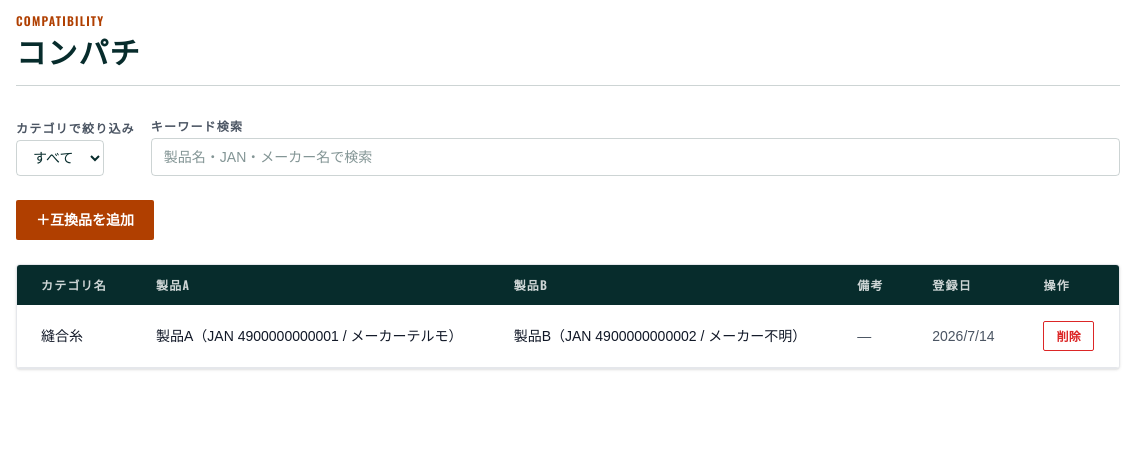
CompatPage › 削除対象が404の場合「すでに削除されています」を表示し一覧を再取得する
Expected: the text "製品A（JAN 4900000000001 / メーカーテルモ）" is shown, [132,305,490,368]
What coordinates should you click on to do the following:
click the button "削除"
I would click on:
 (1069, 336)
Its box is [1044,321,1094,351].
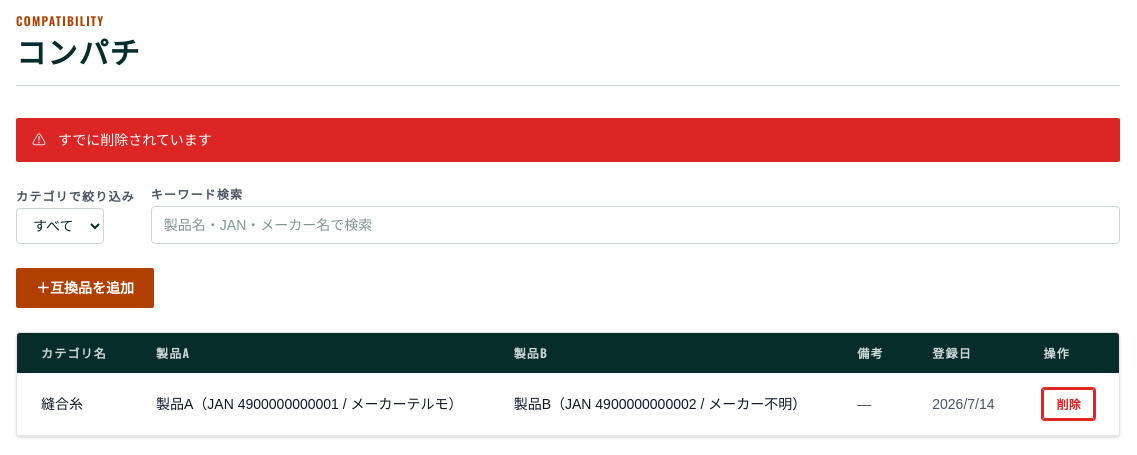
Now the text "すでに削除されています" is shown, box [58,130,212,150]
